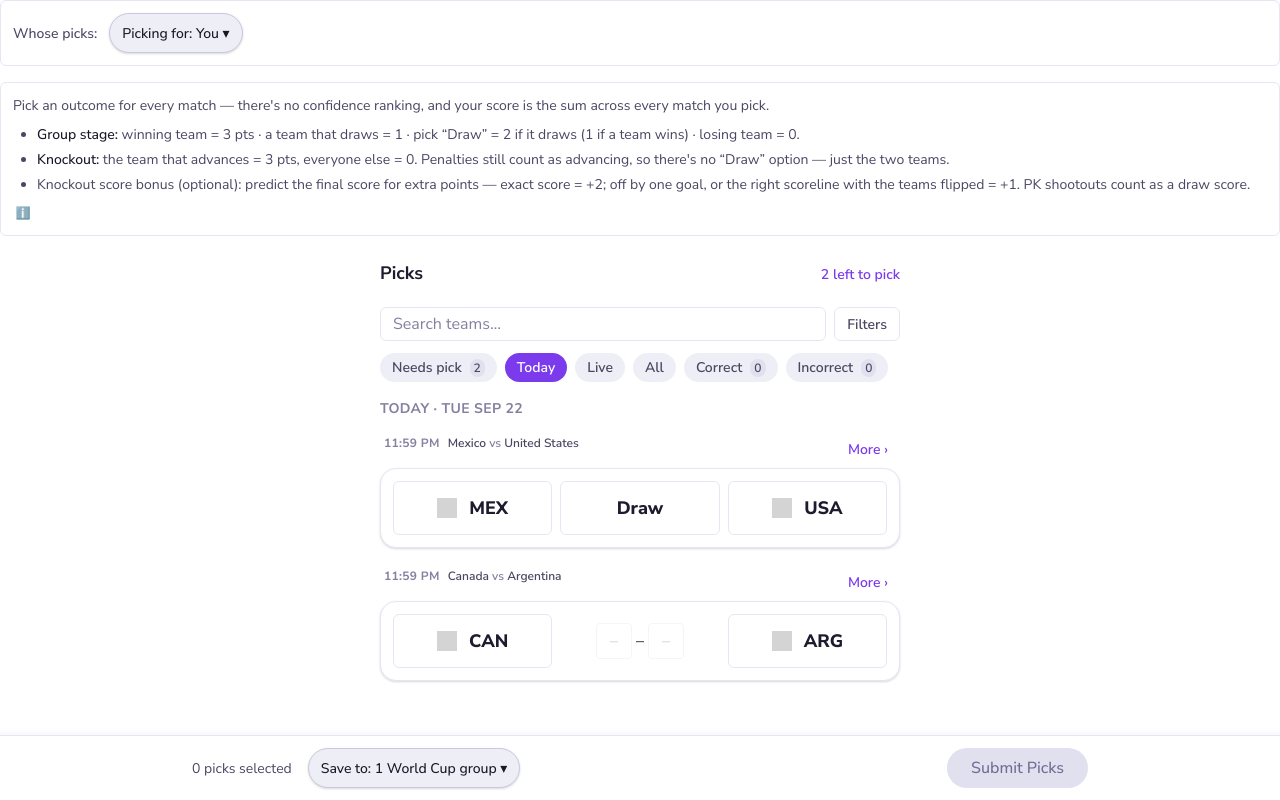
WorldCupPicksTab › person selector (view teammates / admin override) › lets an ADMIN edit a teammate and submits via the per-user endpoint
Expected: the element showing "Mexico vs United States" is shown, [448,435,579,451]
Click the button with aria-label "Choose whose picks to view or edit" at (176, 33), box [109,13,243,53]
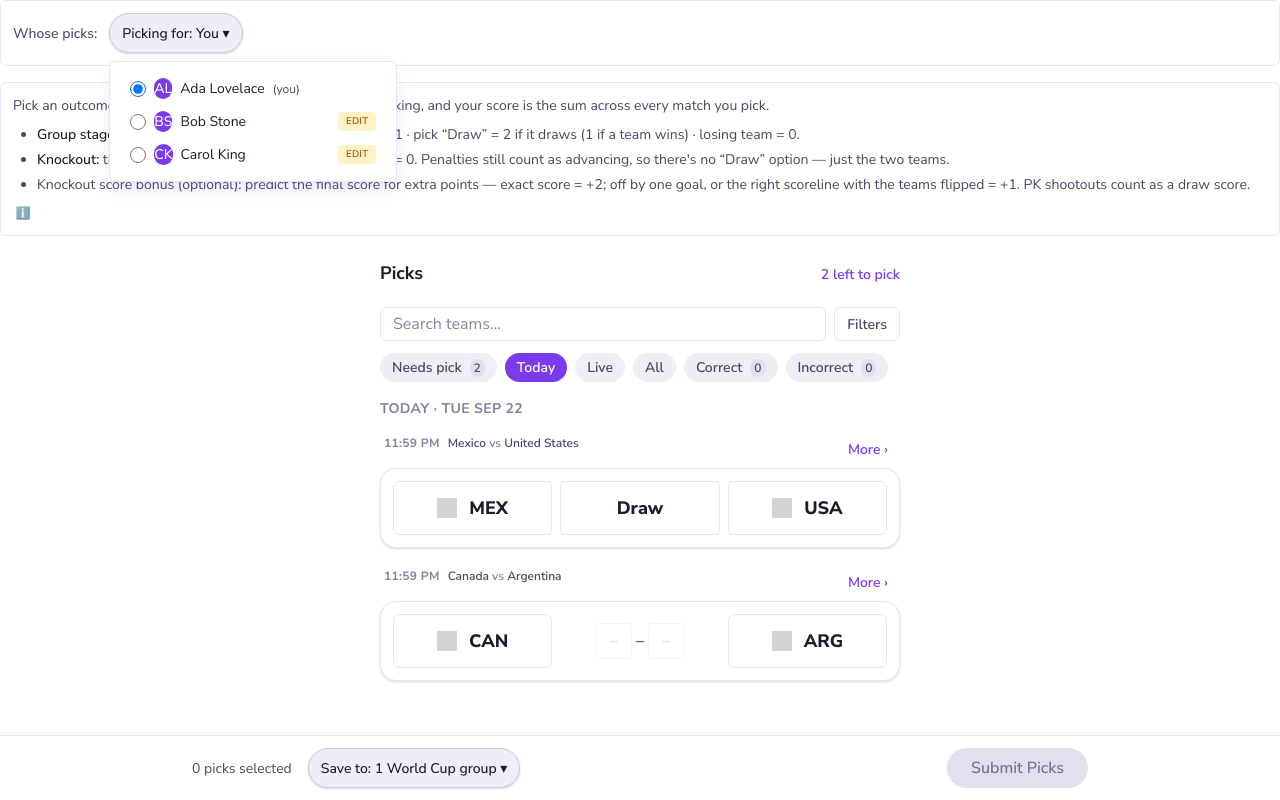
Click the radio button labelled "Bob Stone" at (138, 122), box [130,114,146,130]
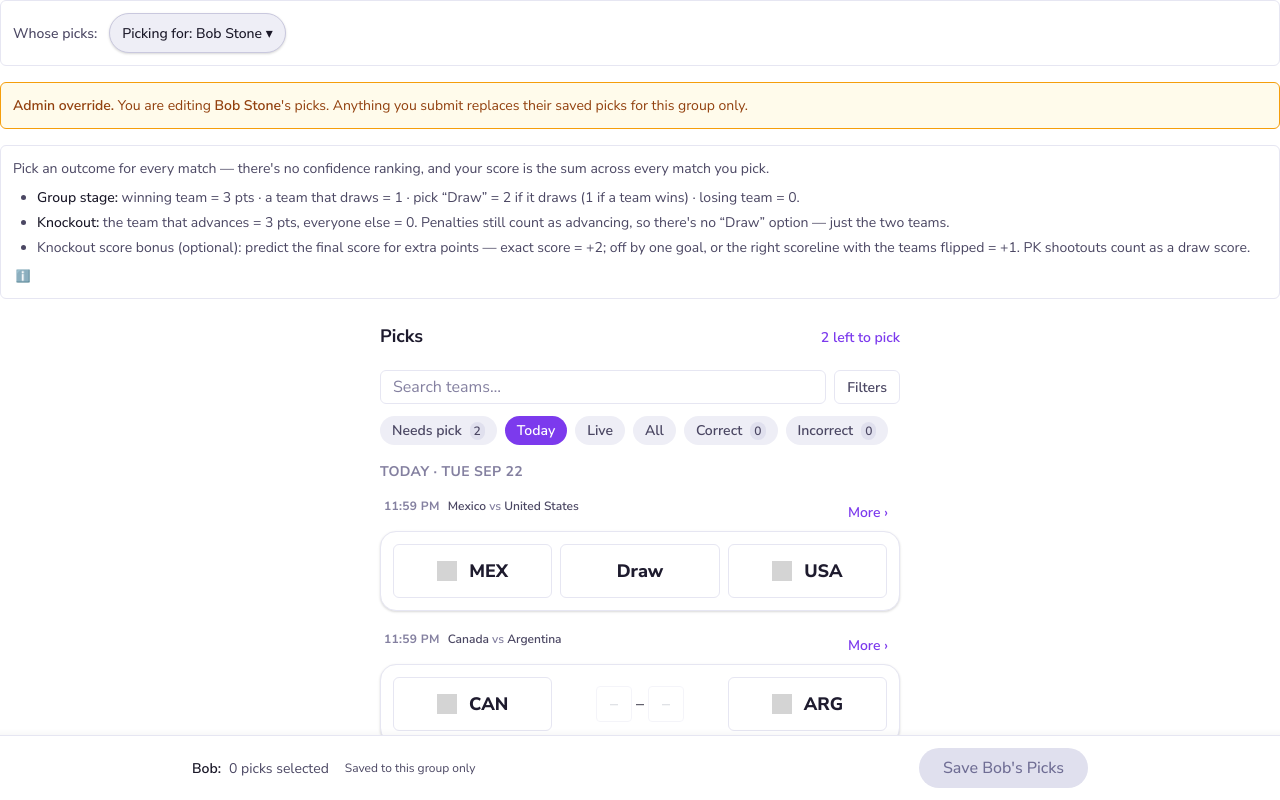
Result: the text "Admin override." is shown at [13,96,114,115]
Result: the text "Saved to this group only" is shown at [345,759,475,777]
Click the button "MEX" at (473, 571), box [393,544,552,598]
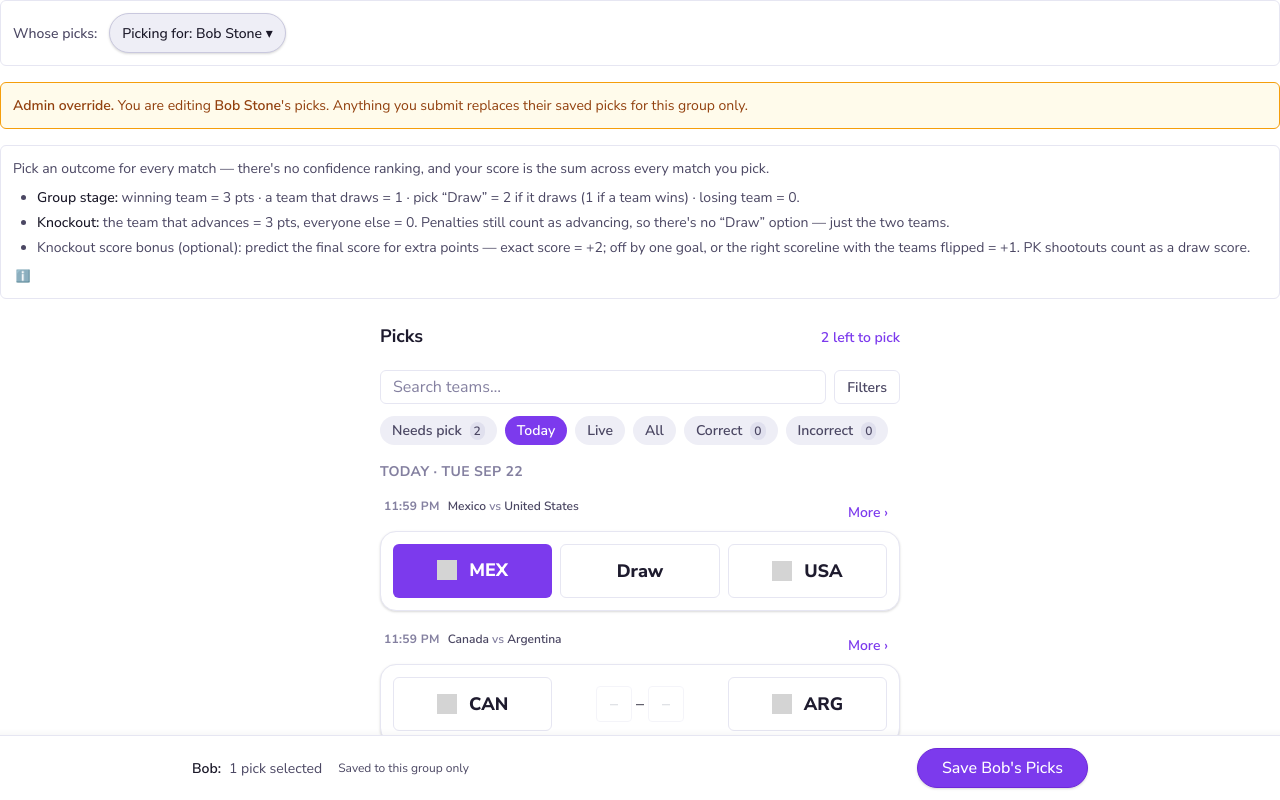
Result: the button "Save Bob's Picks" is enabled
Click the button "Save Bob's Picks" at (1002, 768), box [917,748,1088,788]
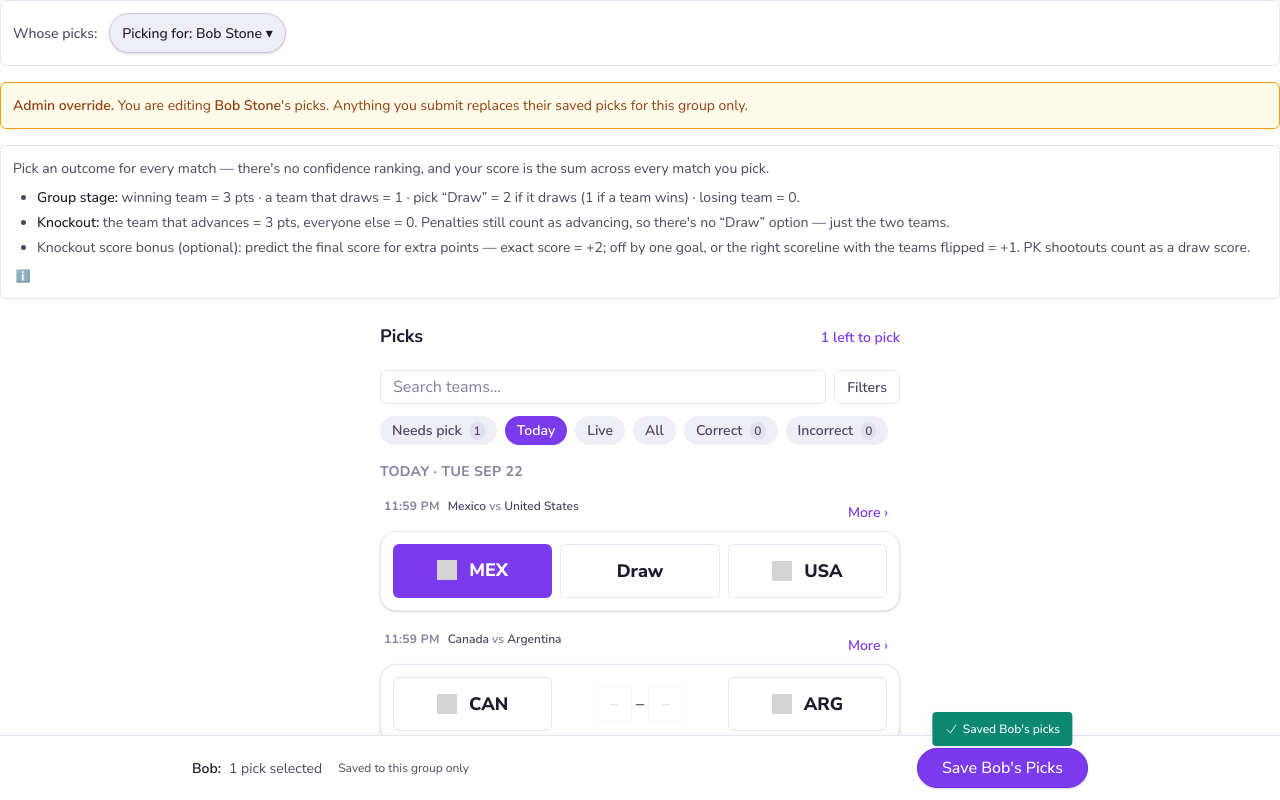
Result: the text "Saved Bob's picks" is shown at [933,712,1072,746]
